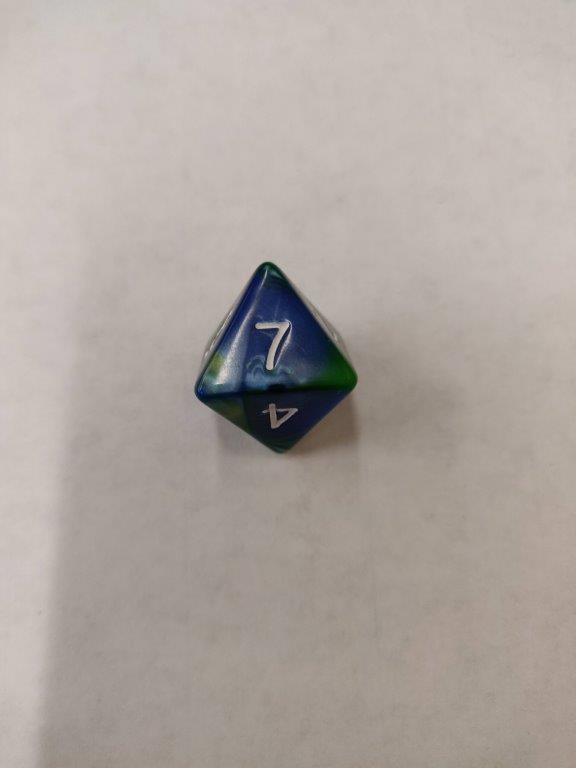d8-7: (192, 262, 360, 459)
